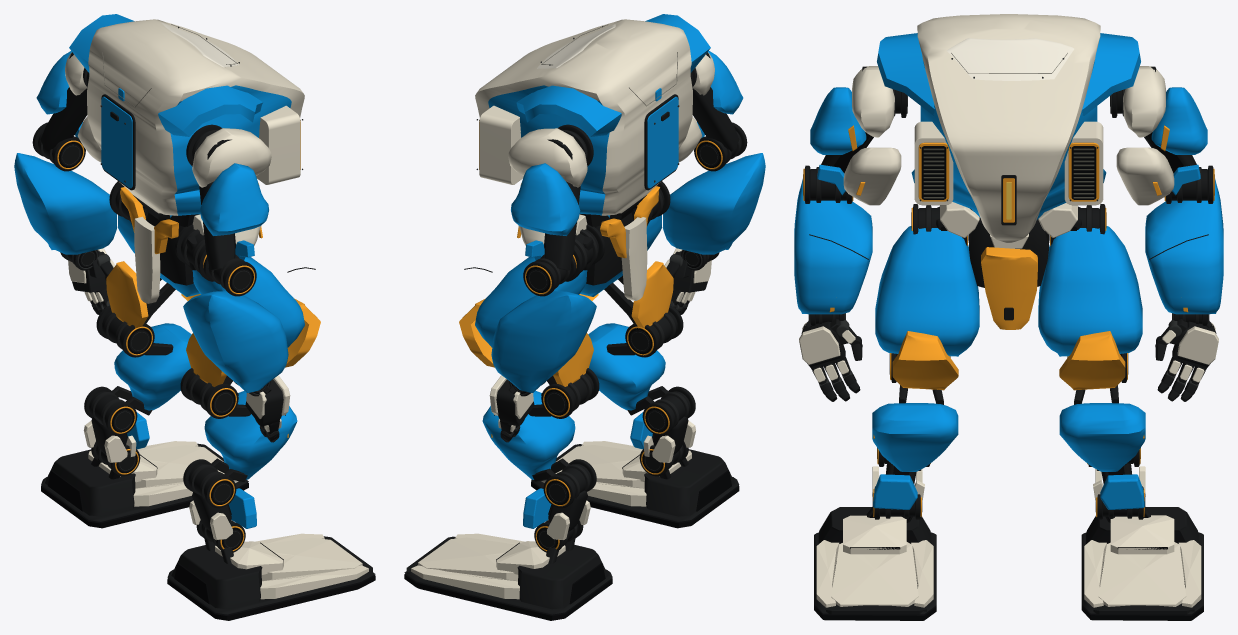
Rendered from appearance_c.glb.
3 renders of one model, left to right at view 1: azimuth 30°, elevation 25°; view 2: azimuth 150°, elevation 25°; view 3: azimuth 270°, elevation 25°, orthographic. The views are drawn at different scales.
Parts seen in each view (by area): view 1: continuous_ivory_blue_torso_shell, right_blue_forearm_wrap, left_blue_forearm_wrap, left_blue_middle_shank_wrap, right_blue_deltoid_wrap, right_blue_middle_shank_wrap, left_black_stepped_heel, right_black_stepped_heel, right_blue_continuous_shoulder_sweep, right_ivory_shoulder_cap, right_ivory_toe_dorsal, right_radiator_ivory_socket (+31 smaller); view 2: continuous_ivory_blue_torso_shell, left_blue_forearm_wrap, right_blue_forearm_wrap, right_blue_middle_shank_wrap, left_blue_deltoid_wrap, left_blue_middle_shank_wrap, right_black_stepped_heel, left_black_stepped_heel, left_blue_continuous_shoulder_sweep, left_ivory_shoulder_cap, left_ivory_toe_dorsal, left_radiator_ivory_socket (+30 smaller); view 3: continuous_ivory_blue_torso_shell, right_blue_thigh_wrap, left_blue_thigh_wrap, right_blue_forearm_wrap, left_blue_forearm_wrap, left_blue_middle_shank_wrap, right_blue_middle_shank_wrap, right_ivory_toe_dorsal, left_ivory_toe_dorsal, ivory_crown_inset, saffron_front_pelvis_cartridge, left_yellow_front_knee_insert (+36 smaller).
Part boxes in pixels (x1,y1,x2,y2): continuous_ivory_blue_torso_shell: [87, 19, 304, 219]; right_blue_forearm_wrap: [183, 291, 288, 392]; left_blue_forearm_wrap: [14, 153, 116, 254]; left_blue_middle_shank_wrap: [114, 323, 191, 410]; right_blue_deltoid_wrap: [199, 163, 268, 235]; right_blue_middle_shank_wrap: [204, 390, 297, 479]; left_black_stepped_heel: [45, 449, 135, 516]; right_black_stepped_heel: [171, 545, 262, 609]; right_blue_continuous_shoulder_sweep: [158, 85, 262, 136]; right_ivory_shoulder_cap: [192, 128, 271, 187]; right_ivory_toe_dorsal: [261, 537, 362, 580]; right_radiator_ivory_socket: [256, 105, 300, 184]; continuous_ivory_blue_torso_shell: [475, 19, 692, 219]; left_blue_forearm_wrap: [491, 291, 596, 392]; right_blue_forearm_wrap: [663, 153, 765, 254]; right_blue_middle_shank_wrap: [588, 323, 665, 410]; left_blue_deltoid_wrap: [511, 163, 580, 235]; left_blue_middle_shank_wrap: [482, 390, 575, 479]; right_black_stepped_heel: [644, 449, 734, 516]; left_black_stepped_heel: [517, 544, 608, 609]; left_blue_continuous_shoulder_sweep: [516, 85, 621, 136]; left_ivory_shoulder_cap: [508, 128, 587, 187]; left_ivory_toe_dorsal: [418, 537, 518, 580]; left_radiator_ivory_socket: [479, 105, 523, 184]; continuous_ivory_blue_torso_shell: [911, 14, 1106, 242]; right_blue_thigh_wrap: [875, 226, 979, 356]; left_blue_thigh_wrap: [1038, 226, 1142, 356]; right_blue_forearm_wrap: [794, 179, 872, 314]; left_blue_forearm_wrap: [1145, 179, 1223, 314]; left_blue_middle_shank_wrap: [1059, 403, 1145, 471]; right_blue_middle_shank_wrap: [872, 403, 958, 471]; right_ivory_toe_dorsal: [831, 542, 918, 606]; left_ivory_toe_dorsal: [1098, 542, 1186, 606]; ivory_crown_inset: [946, 38, 1074, 80]; saffron_front_pelvis_cartridge: [981, 247, 1037, 329]; left_yellow_front_knee_insert: [1059, 331, 1125, 390].
Bounding box in the file's own units: 0.9806 × 2.65 × 1.93.
